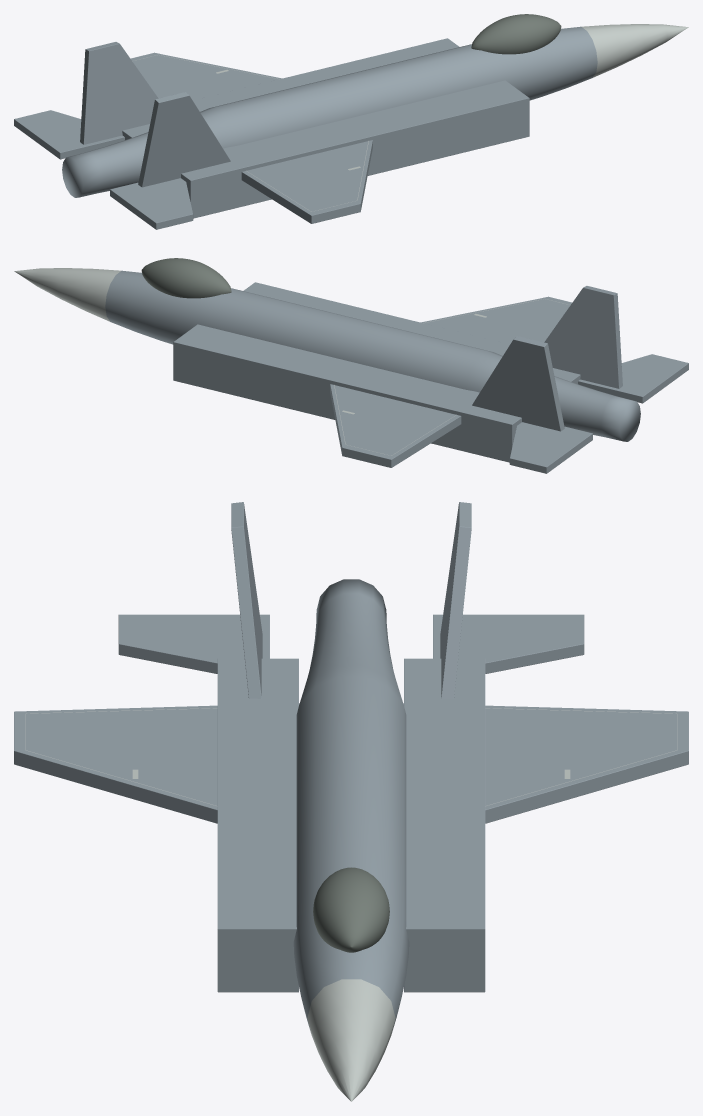
Rendered from rfn_strike_mig31k.glb.
The picture shows the model from 3 angles, top to bottom: view 1: azimuth 30°, elevation 25°; view 2: azimuth 150°, elevation 25°; view 3: azimuth 270°, elevation 25°; orthographic projection. The views are drawn at different scales.
Visible parts, largest first — view 1: rfn_strike_mig31k; view 2: rfn_strike_mig31k; view 3: rfn_strike_mig31k.
Boxes of the visible parts, box(x1,y1,x2,y2) form: rfn_strike_mig31k: box(14, 14, 688, 229); rfn_strike_mig31k: box(14, 258, 688, 473); rfn_strike_mig31k: box(14, 502, 688, 1101).
Bounding box in the file's own units: 10 × 2.35 × 5.8.
